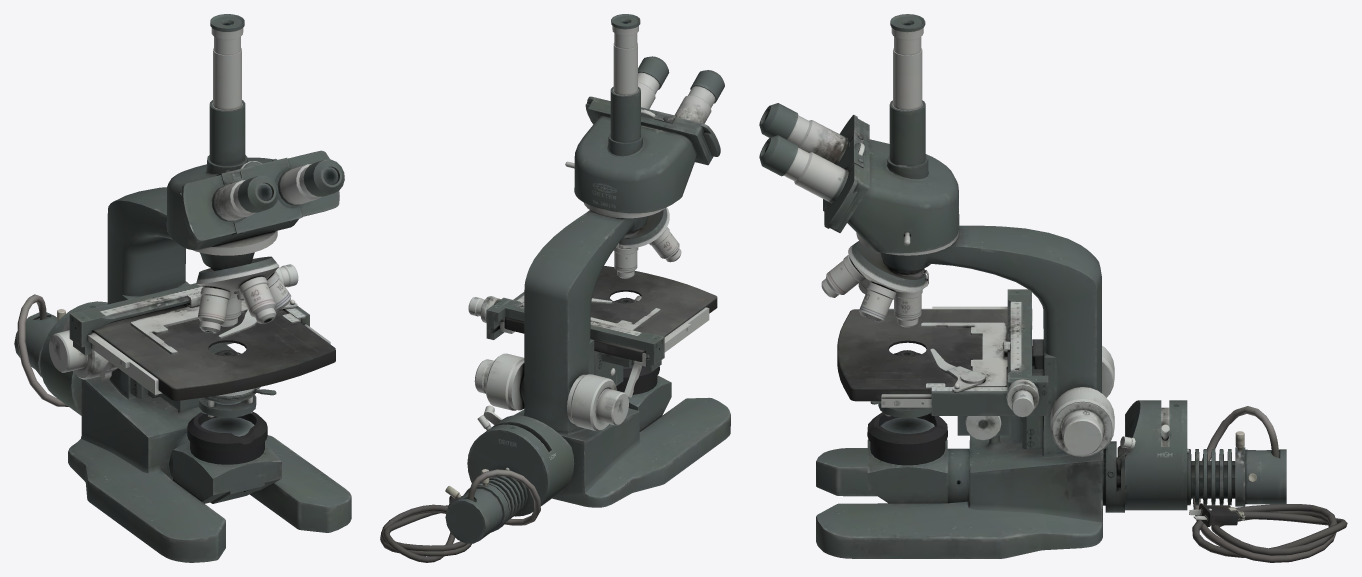
Rendered from industrial_microscope.glb.
The picture shows the model from 3 angles, left to right: view 1: azimuth 30°, elevation 25°; view 2: azimuth 150°, elevation 25°; view 3: azimuth 270°, elevation 25°; orthographic projection. The views are drawn at different scales.
Parts seen in each view (by area): view 1: industrial_microscope, industrial_microscope_cable; view 2: industrial_microscope, industrial_microscope_cable; view 3: industrial_microscope, industrial_microscope_cable.
Boxes of the visible parts, <box> form: industrial_microscope: <box>14,14,351,562</box>; industrial_microscope_cable: <box>17,294,68,406</box>; industrial_microscope: <box>445,14,730,543</box>; industrial_microscope_cable: <box>380,469,540,562</box>; industrial_microscope: <box>759,14,1286,558</box>; industrial_microscope_cable: <box>1189,406,1347,562</box>.
Bounding box in the file's own units: 0.2145 × 0.4617 × 0.4981.
1 material, 1 textured.
